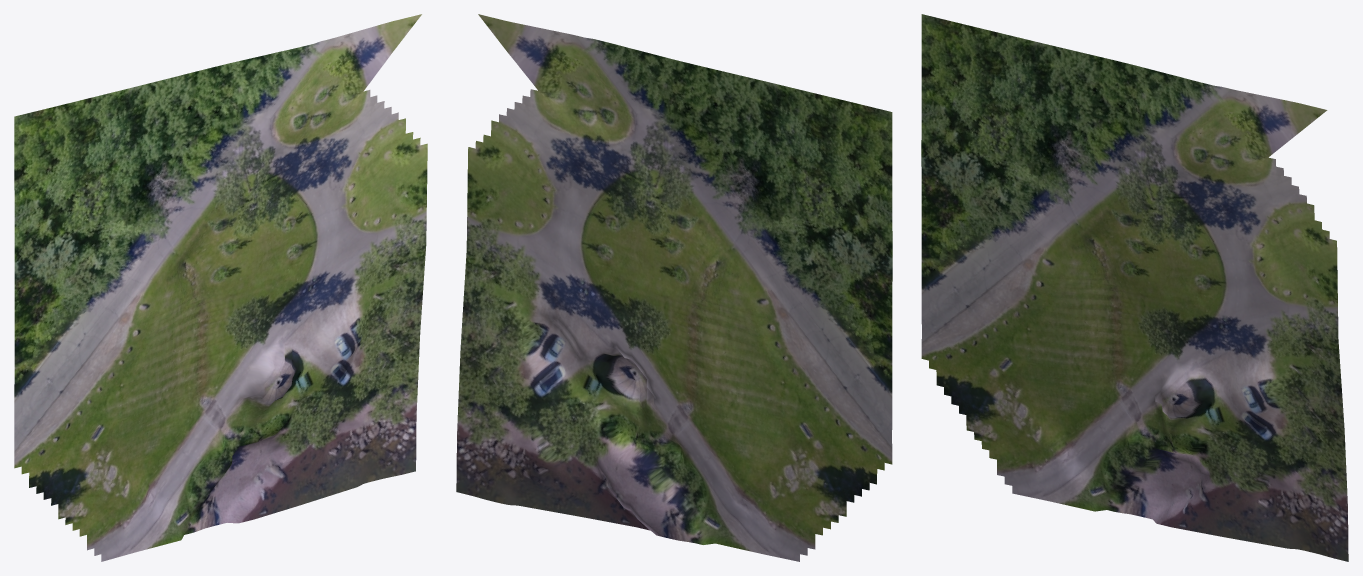
Rendered from odm_textured_model.obj.
3 views of the same model, side by side, from view 1: azimuth 30°, elevation 25°; view 2: azimuth 150°, elevation 25°; view 3: azimuth 330°, elevation 25° (orthographic). The views are drawn at different scales.
Bounding box in the file's own units: 69.69 × 74.67 × 6.01.
1 material, 1 textured.
